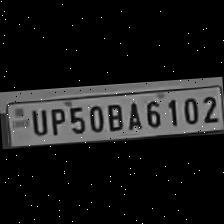0: (84, 100, 104, 132), (178, 94, 198, 124)
1: (162, 95, 180, 127)
2: (198, 91, 218, 122)
5: (64, 102, 86, 134)
6: (140, 95, 162, 128)
A: (122, 98, 142, 130)
B: (103, 99, 125, 131)
P: (45, 103, 66, 135)
U: (26, 106, 48, 136)
